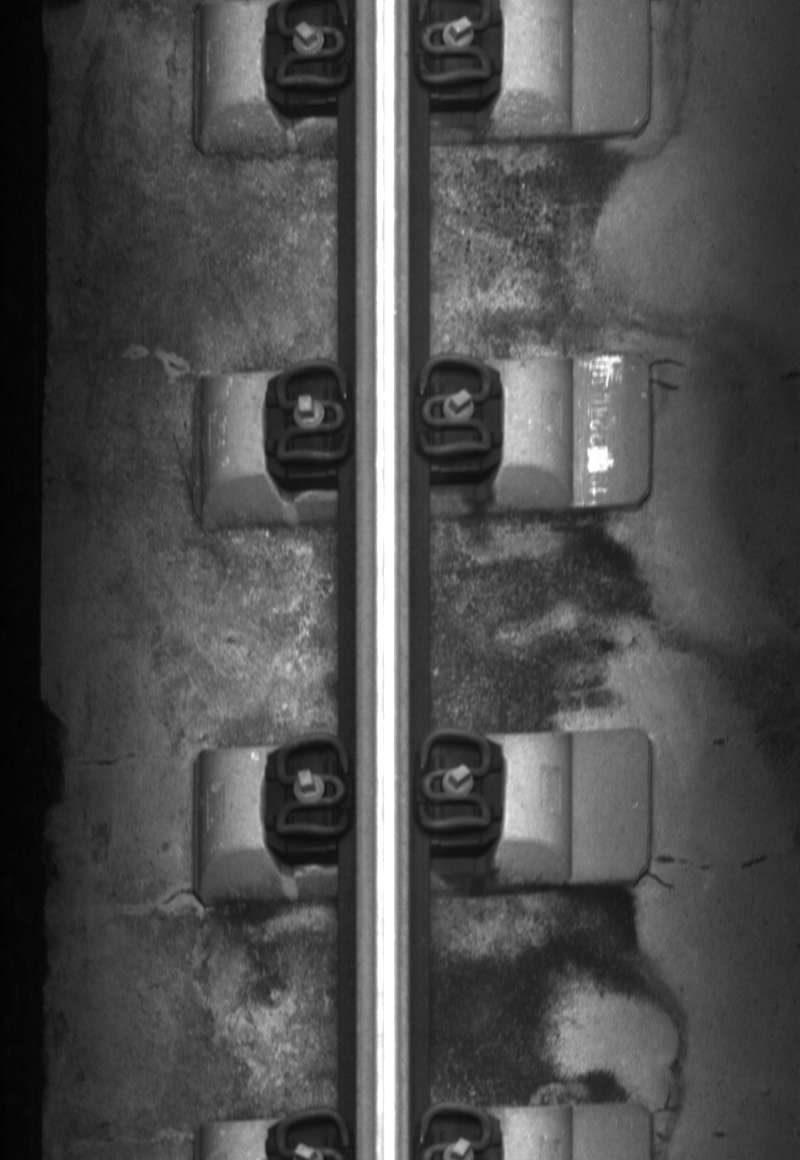l_faster: (268, 730, 354, 845), (269, 357, 354, 472)
r_faster: (412, 725, 496, 838), (413, 353, 497, 461)
